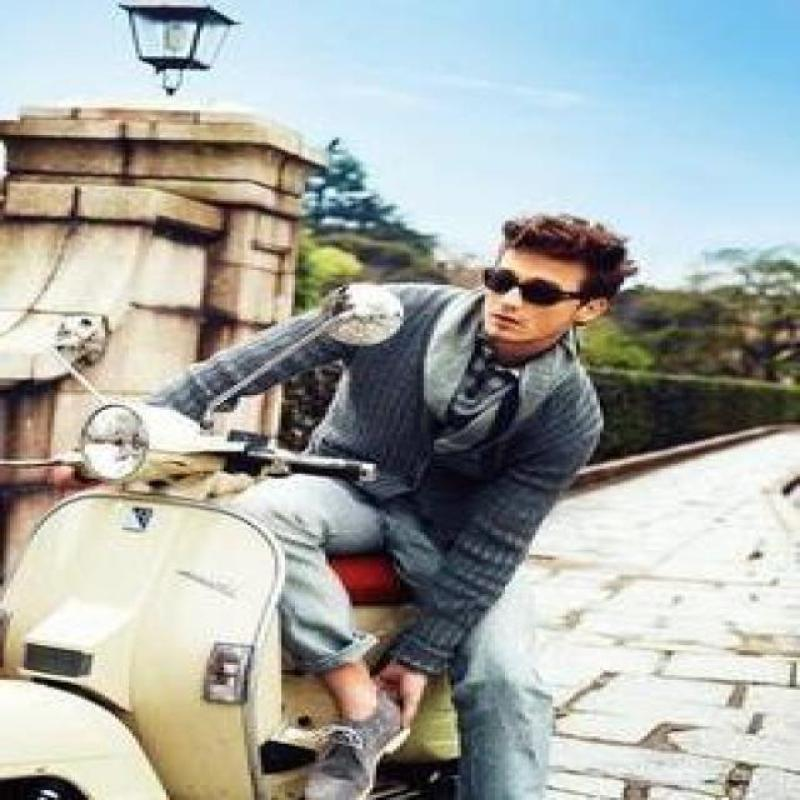nohelmet: (488, 195, 638, 356)
